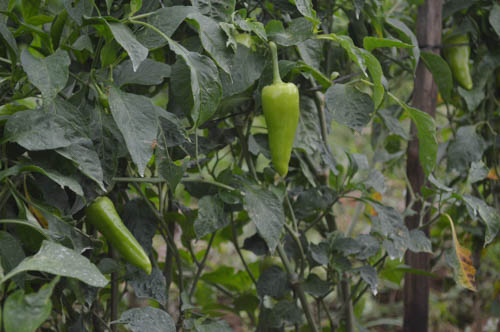ChiliPepper: (88, 196, 152, 275), (260, 84, 301, 181), (444, 34, 473, 90)
